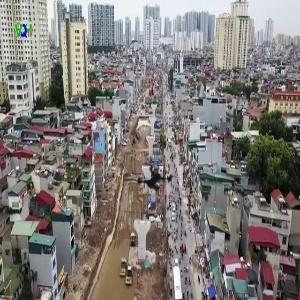drone: (121, 144, 191, 214)
